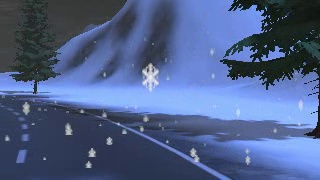Lane: (0, 96, 231, 179)
